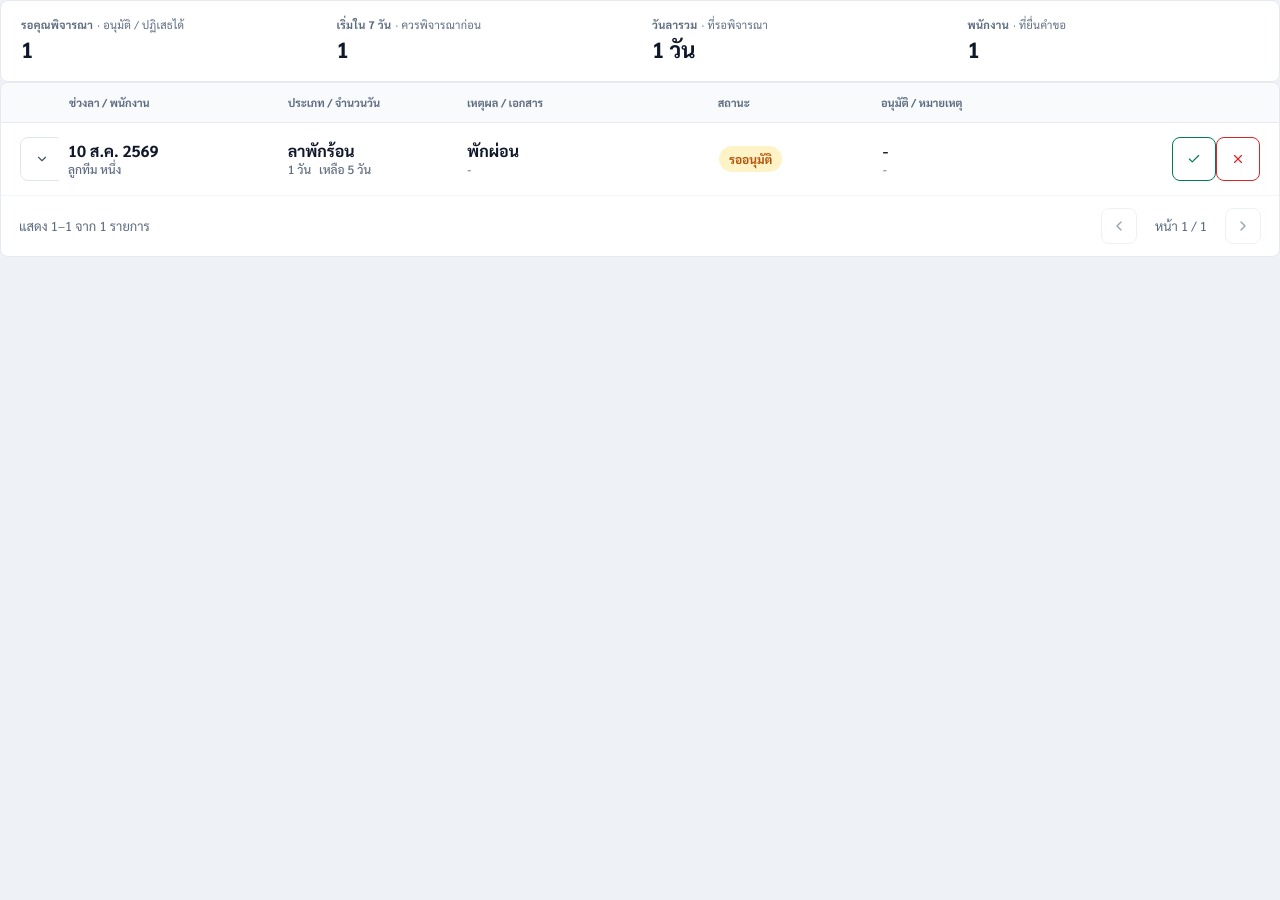
Test: ReviewQueueTab › Phase A4: 409 already-decided › dismisses the inline conflict panel when the row is collapsed again
Check: the text "พักผ่อน" is shown, box 467,140 -> 519,161
Click the button named "อนุมัติ".
click(1194, 159)  # box 1172,137 -> 1216,181
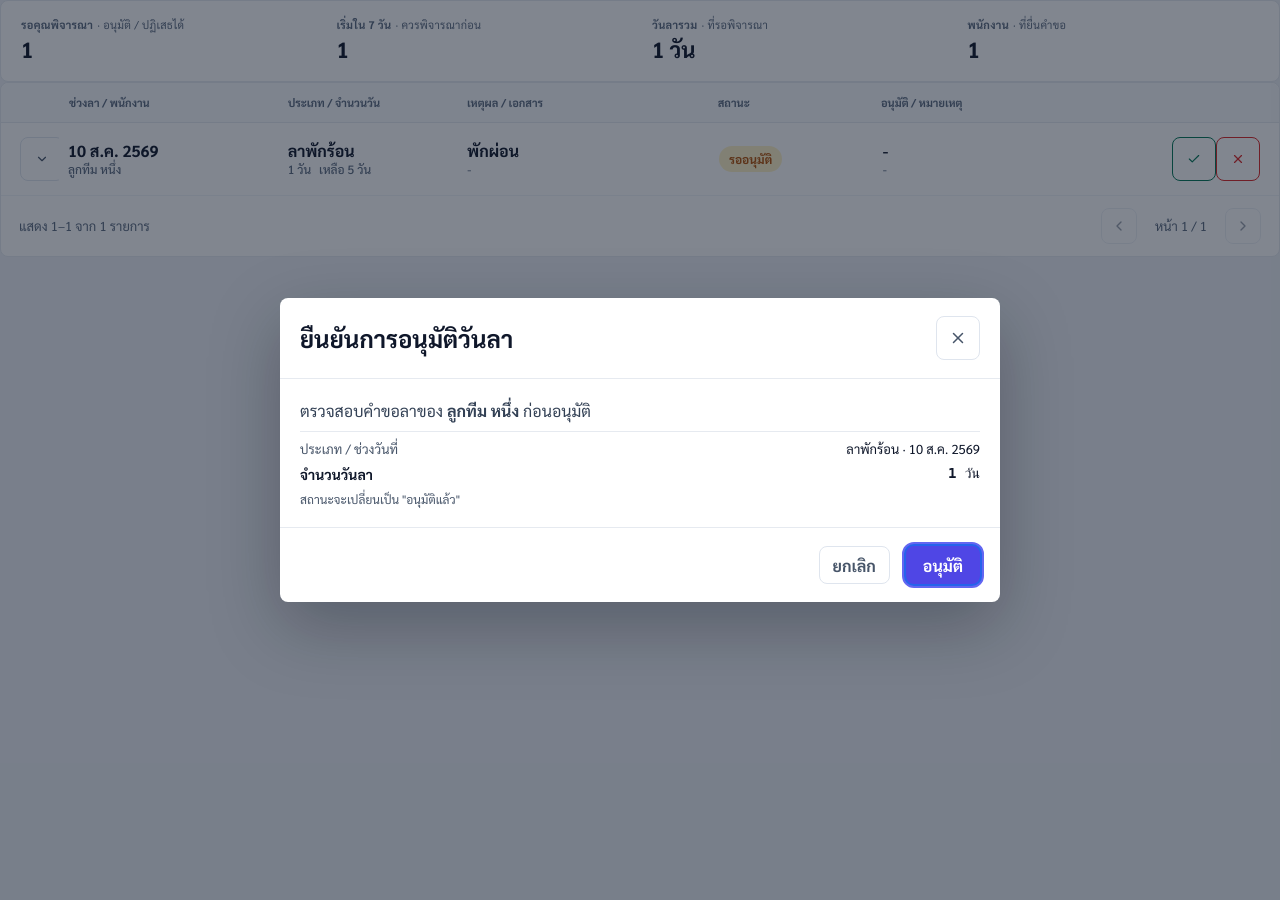
Click the button "อนุมัติ".
click(943, 565)  # box 906,546 -> 980,584
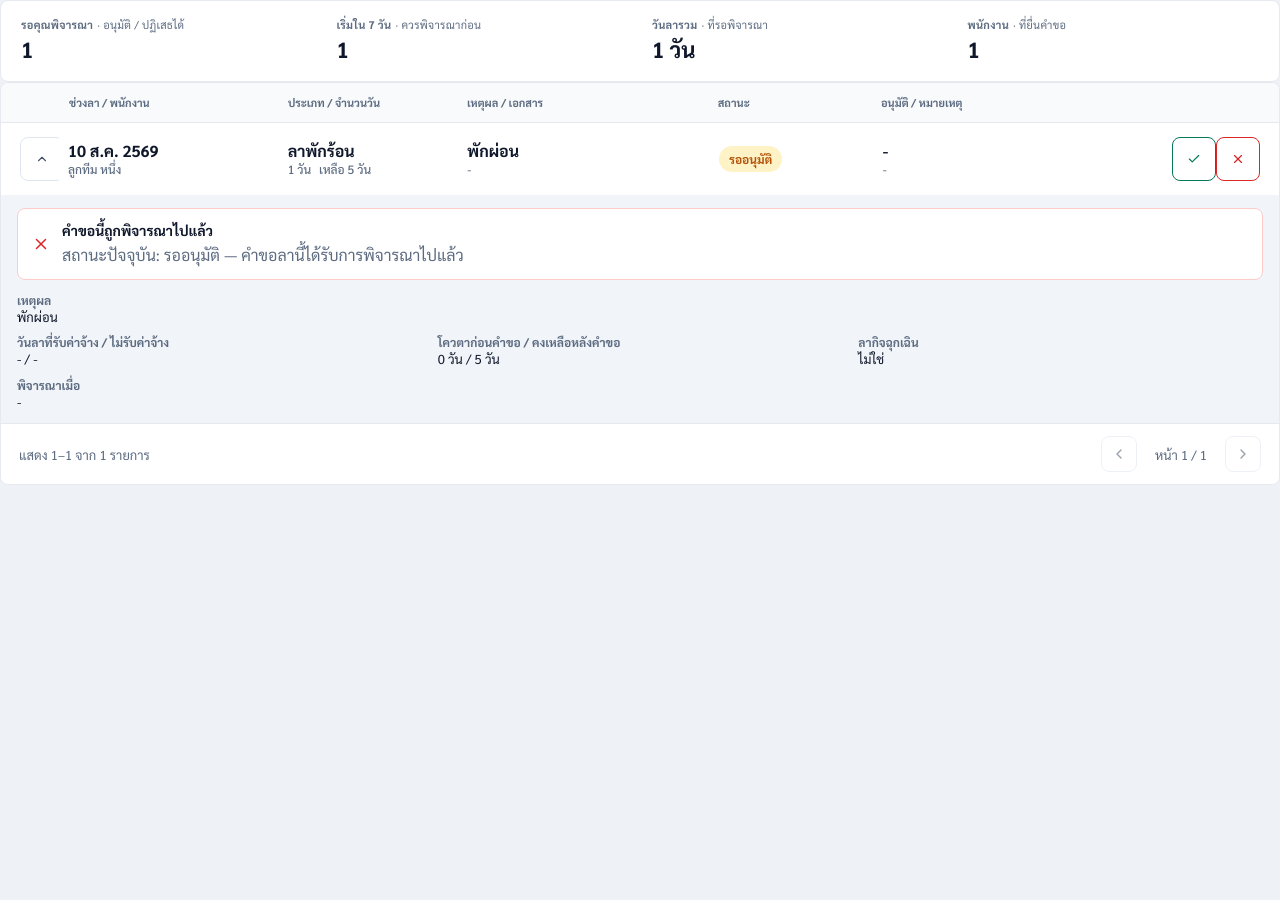
Check: the text "คำขอนี้ถูกพิจารณาไปแล้ว" is shown, box 62,221 -> 213,239
Click the button named "ซ่อนรายละเอียดคำขอลาของ".
click(42, 159)  # box 20,137 -> 64,181
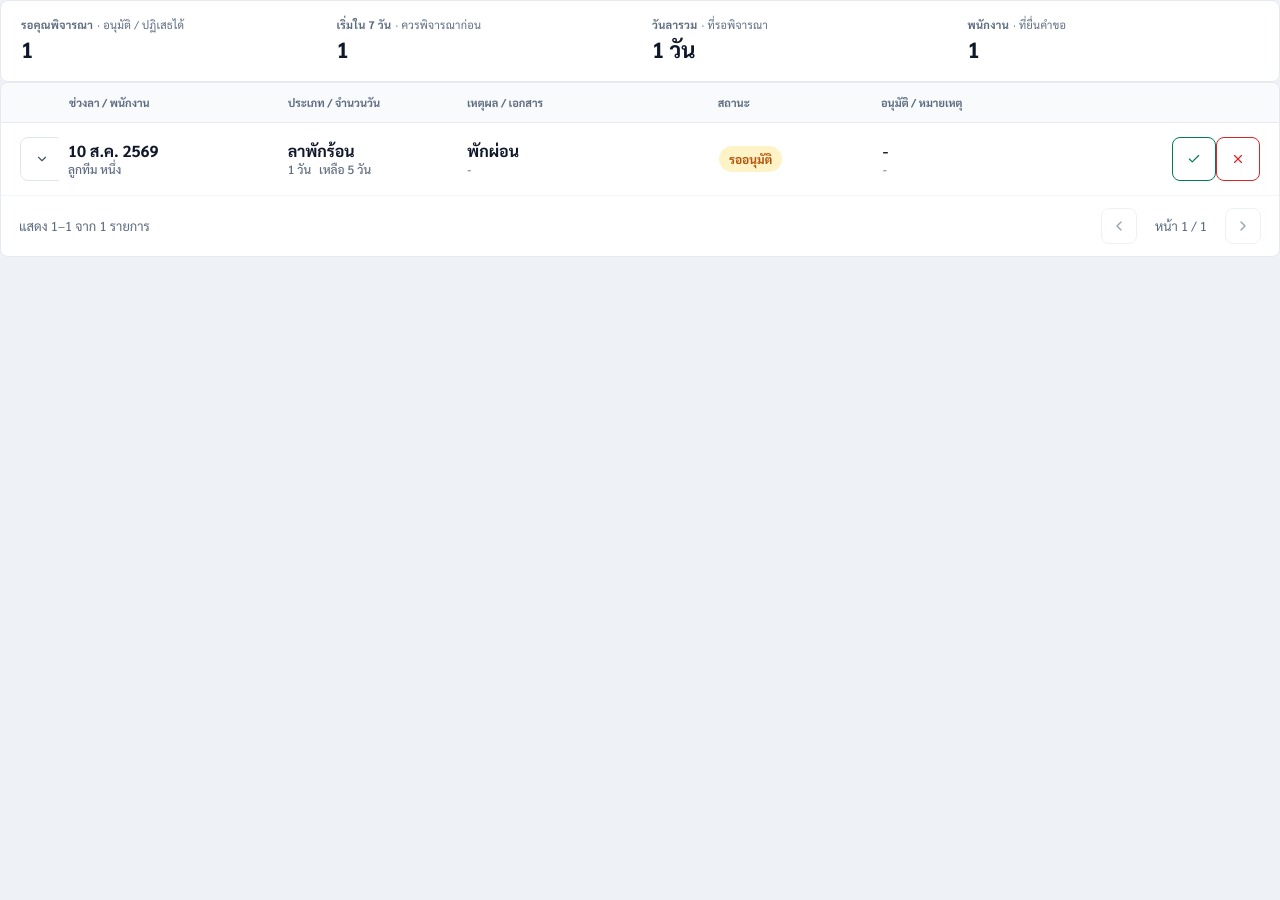
Check: the text "คำขอนี้ถูกพิจารณาไปแล้ว" is gone
